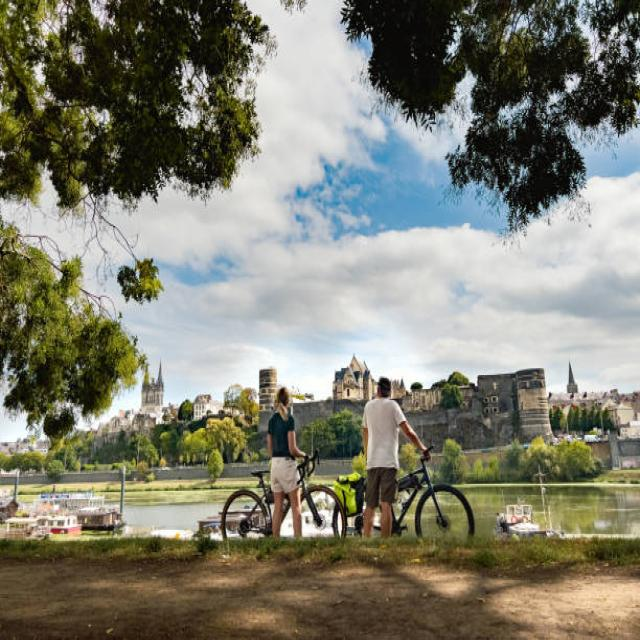bicycle: (334, 377, 475, 538), (221, 387, 346, 538)
